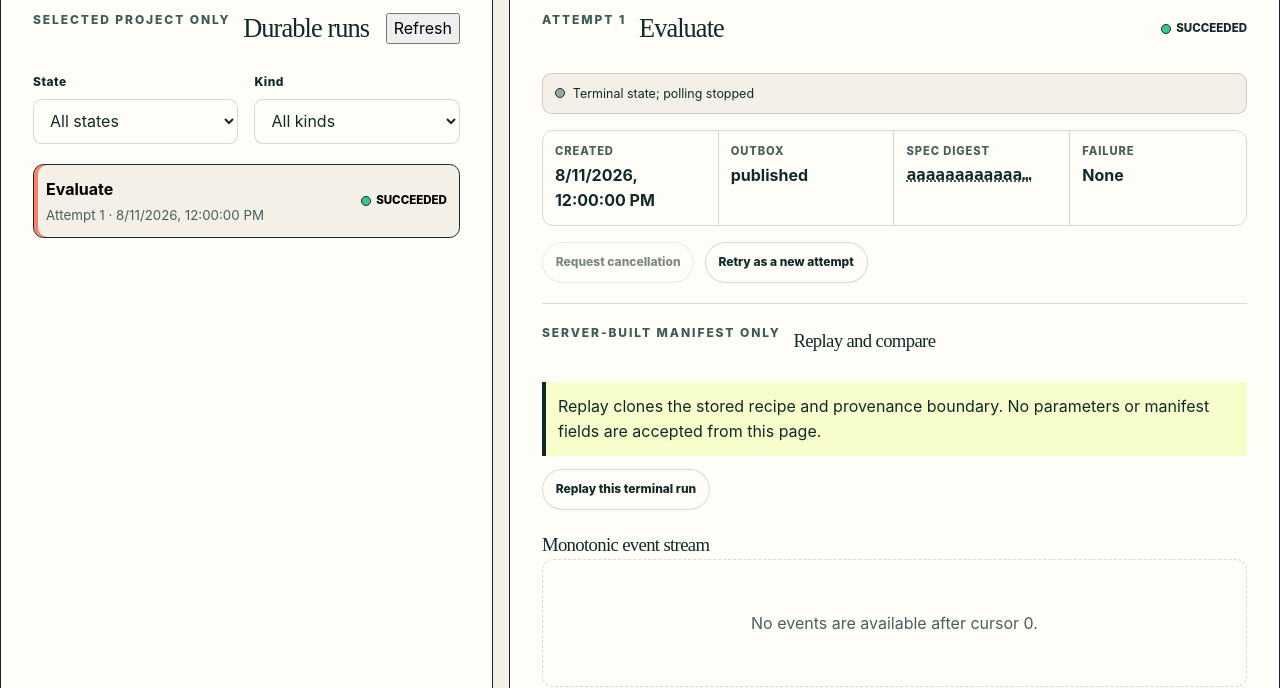
Test: Job Center durable replay › reuses the same idempotency key after an uncertain failed response
(page scrolled)
Click the button "Replay this terminal run". click: (626, 490)
box: [542,469,710,510]
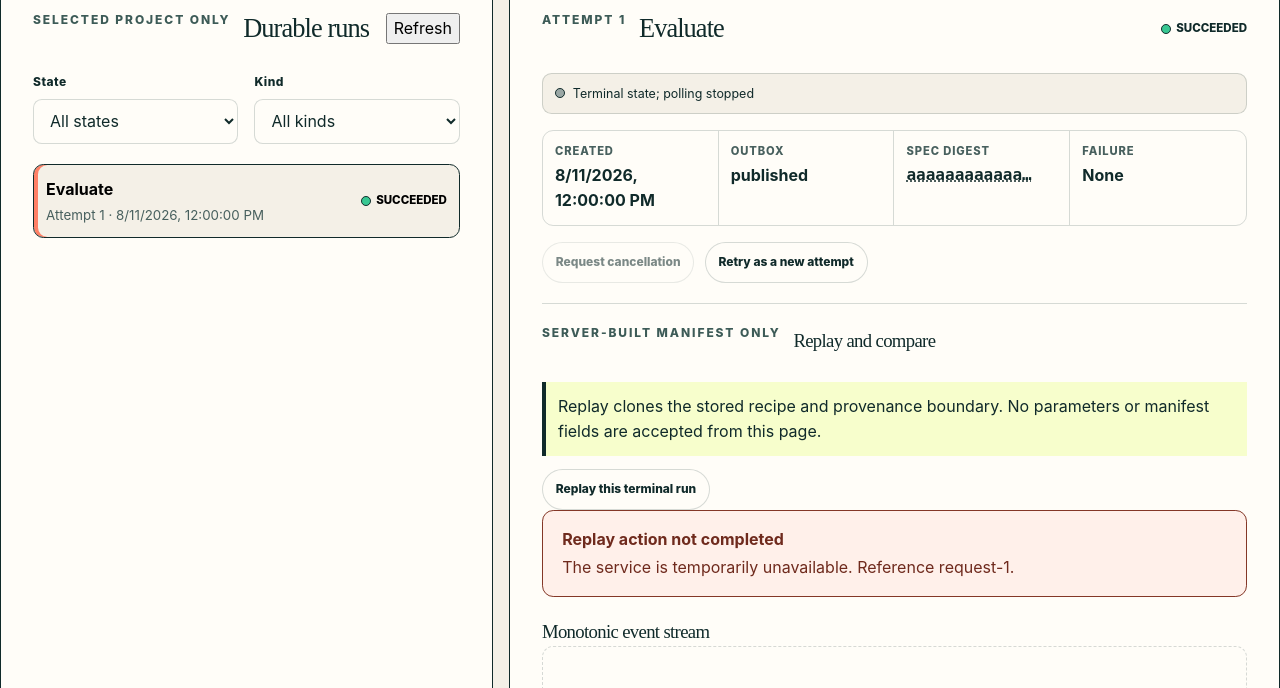
Check: the text "The service is temporarily unavailable. Reference request-1." is shown, box [562,557,1014,577]
Click the button "Replay this terminal run". click: (626, 490)
box: [542,469,710,510]
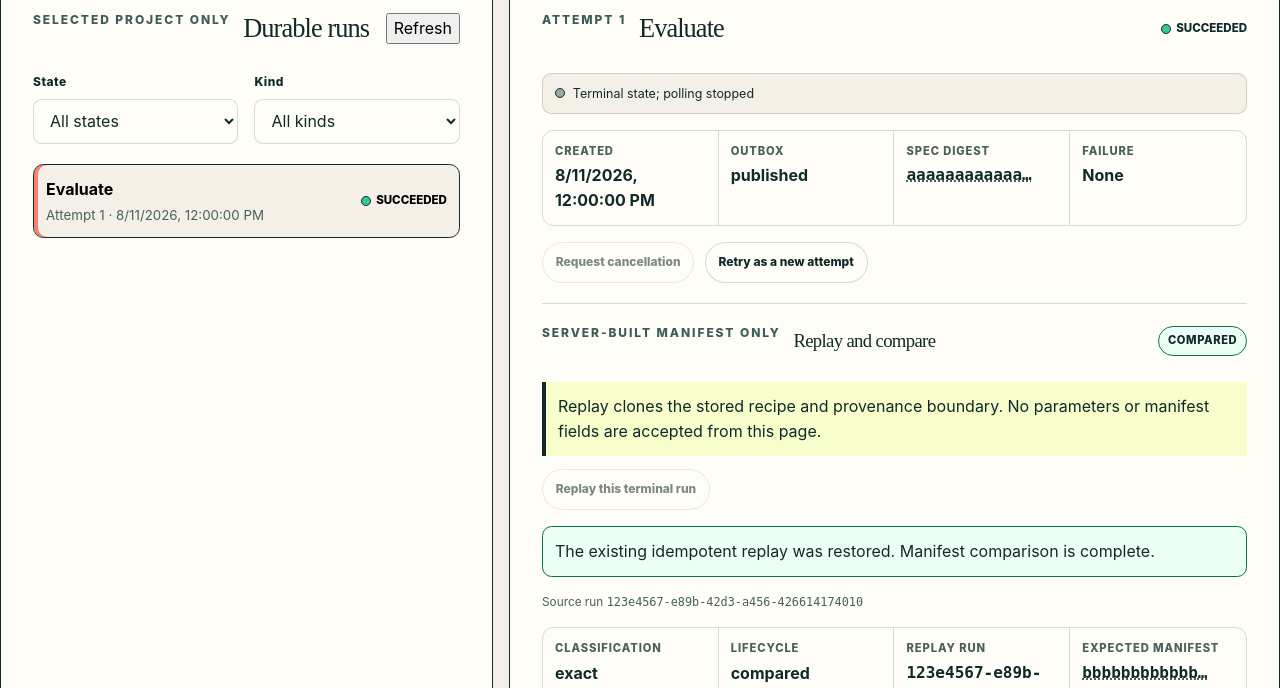
Check: the text "The existing idempotent replay was restored. Manifest comparison is complete." is shown, box [542,526,1247,577]
